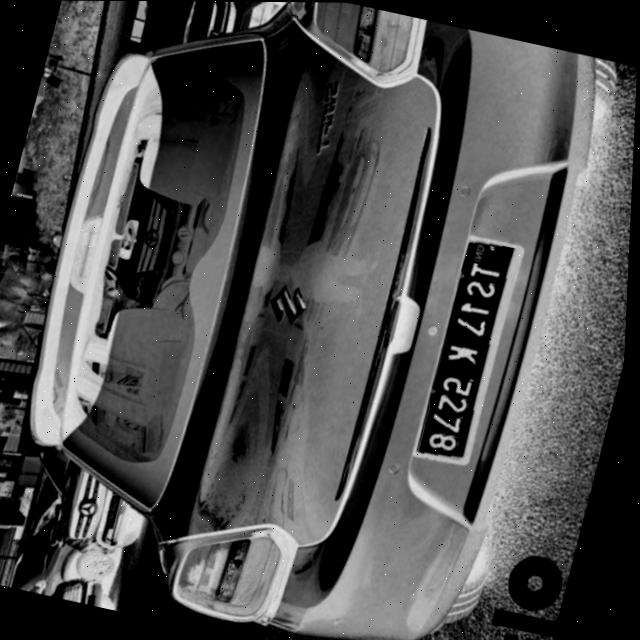1: (463, 298, 495, 318)
2: (439, 393, 472, 415)
5: (442, 372, 477, 396)
7: (456, 313, 491, 338), (432, 410, 468, 434)
8: (429, 430, 463, 452)
IND: (471, 242, 501, 265)
Indian_registered: (422, 239, 520, 458)
K: (448, 341, 485, 366)
S: (467, 277, 500, 300)
T: (469, 257, 506, 281)
